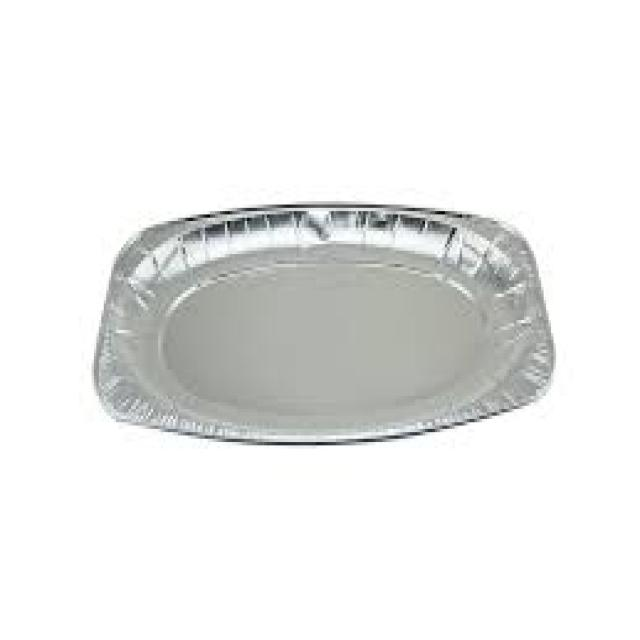kim_loai: (94, 198, 554, 449)
